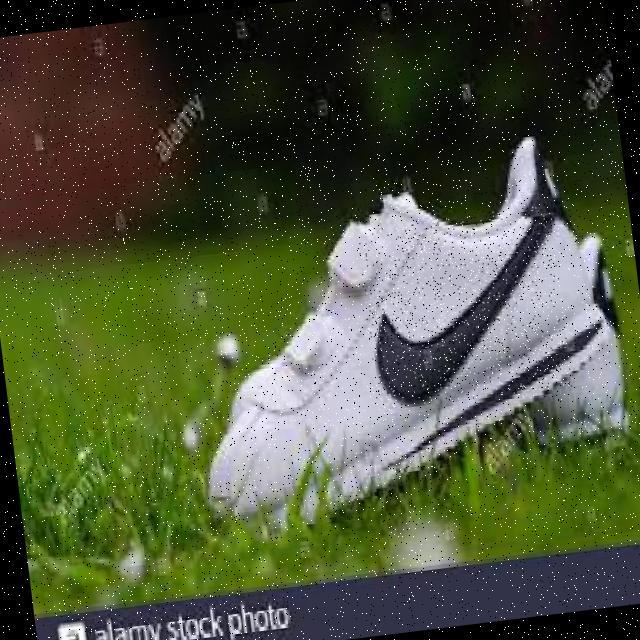Nike: (355, 204, 572, 410)
